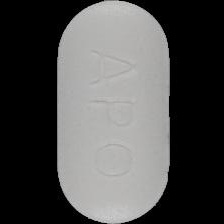68084-851: (0, 0, 224, 224)
